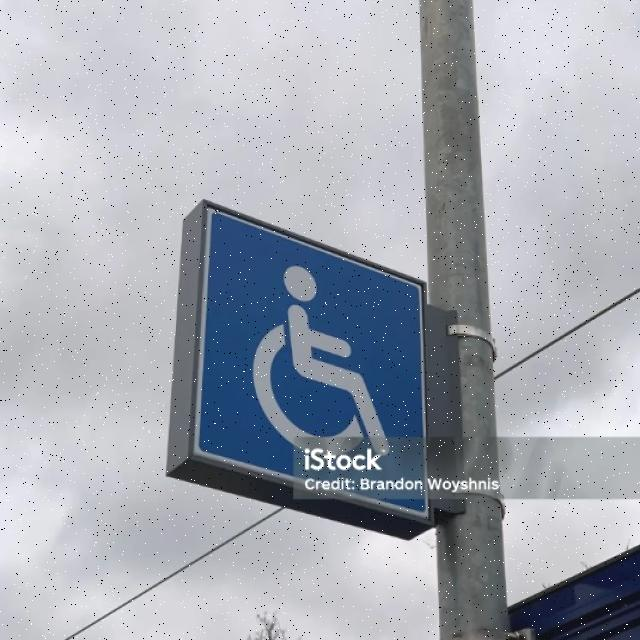symbol_of_access: (186, 207, 433, 528)
